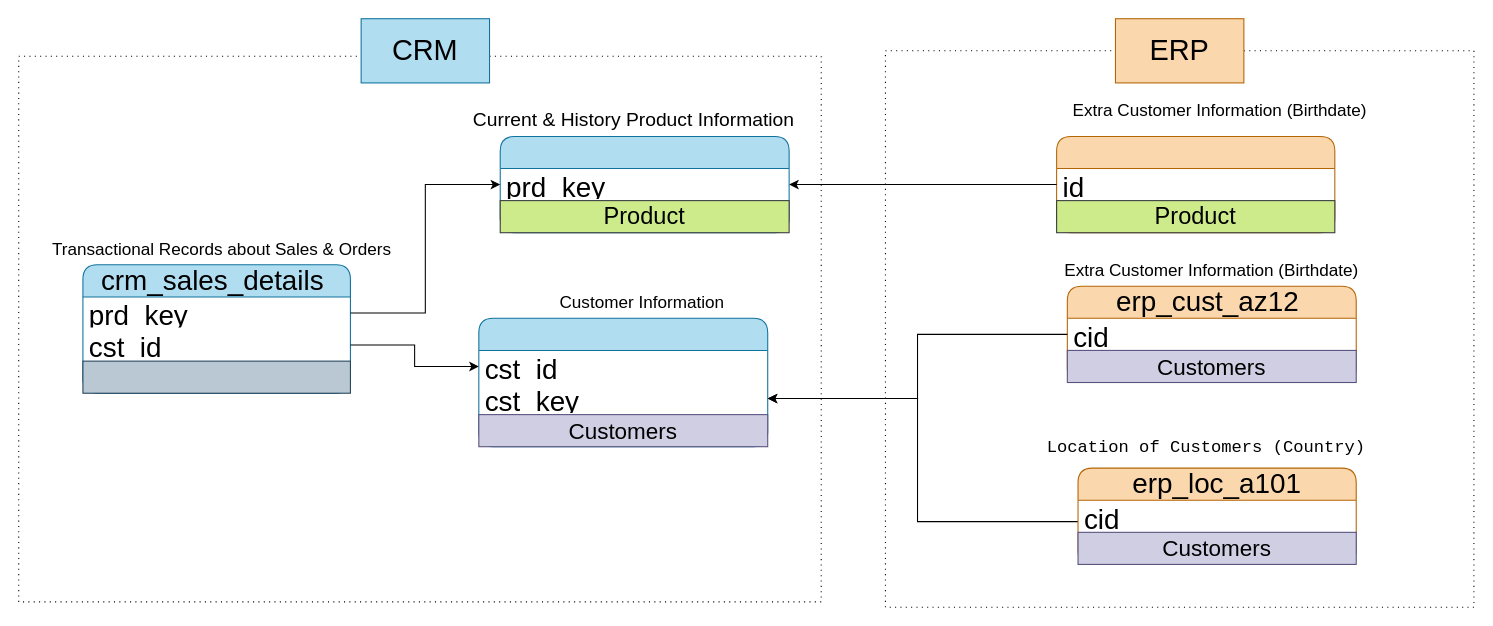
The diagram is 1493 pixels wide and 626 high, and some of its shapes have lost their labels. The box of each missing label's shape, as (x1, y1, x2, y2) in pixels:
crm_cust_info: (478, 317, 768, 447)
crm_prd_info: (499, 135, 789, 233)
erp_px_cat_g1v2: (1056, 135, 1335, 233)
Sales: (82, 360, 350, 393)
